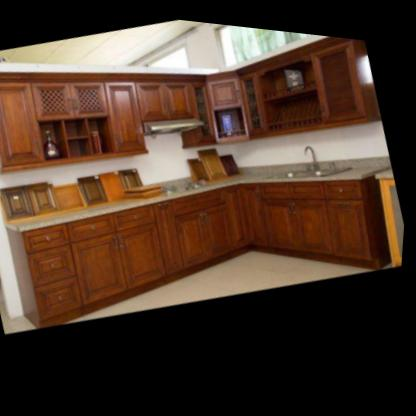Cabinet: (0, 121, 402, 361)
